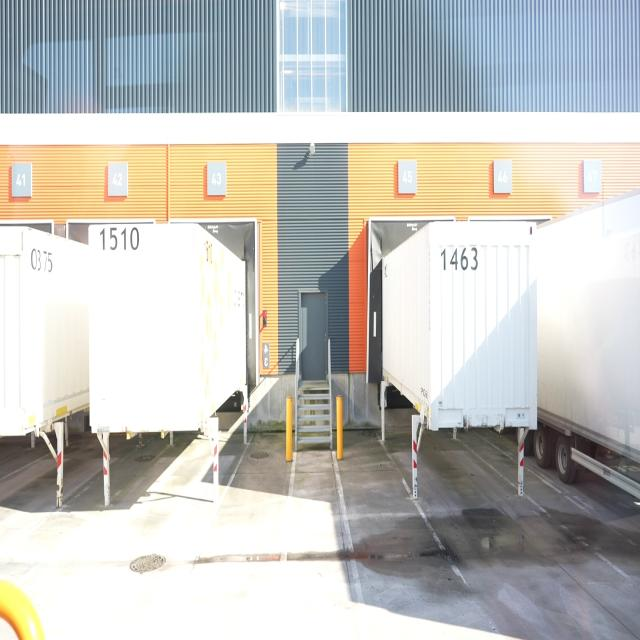Code: (436, 244, 483, 278), (97, 222, 141, 253), (27, 240, 58, 276)
